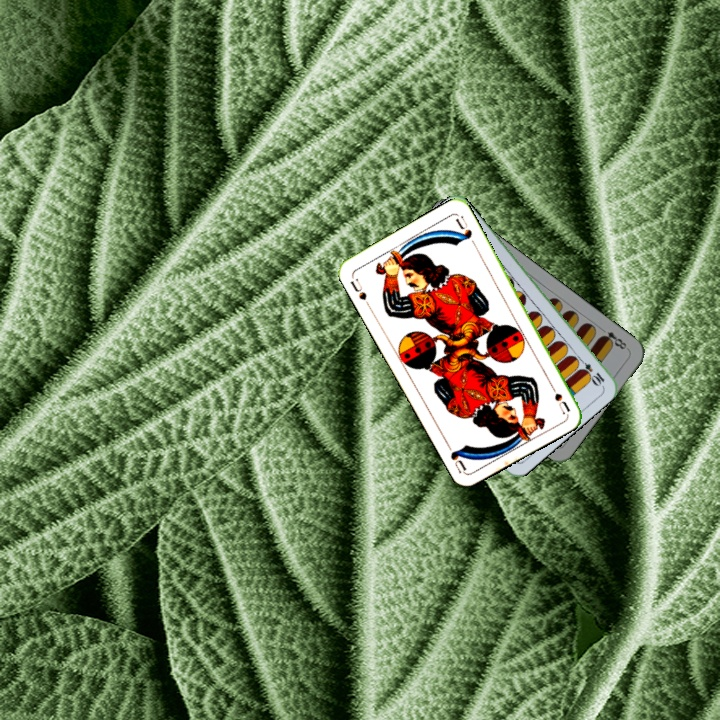E10: (574, 353, 607, 388)
E8: (596, 323, 631, 353)
SU: (545, 378, 573, 416), (346, 273, 369, 303)
